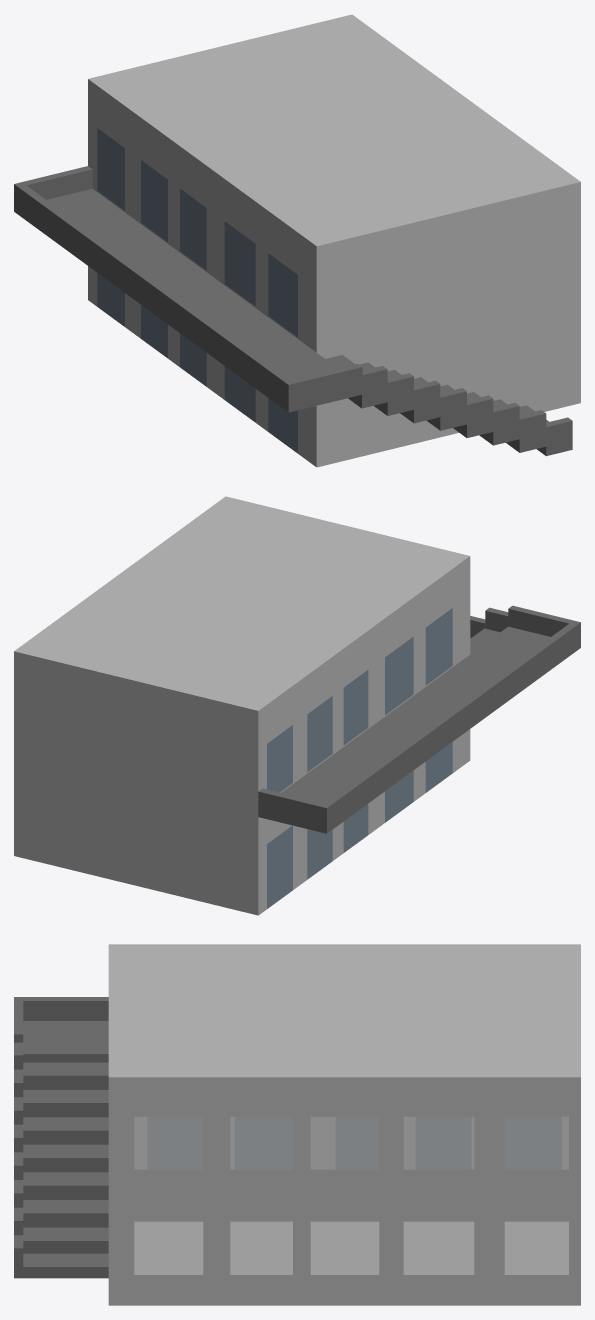
File: apa-to.fbx
The picture shows the model from 3 angles, top to bottom: view 1: azimuth 30°, elevation 25°; view 2: azimuth 150°, elevation 25°; view 3: azimuth 270°, elevation 25°; orthographic projection. The views are drawn at different scales.
Visible parts, largest first — view 1: apa-to1; view 2: apa-to1; view 3: apa-to1.
Boxes of the visible parts, box(x1,y1,x2,y2) form: apa-to1: box(14, 14, 580, 467); apa-to1: box(14, 496, 580, 915); apa-to1: box(14, 944, 580, 1305).
Size of the model in its own units: 1280 by 800 by 1800.
